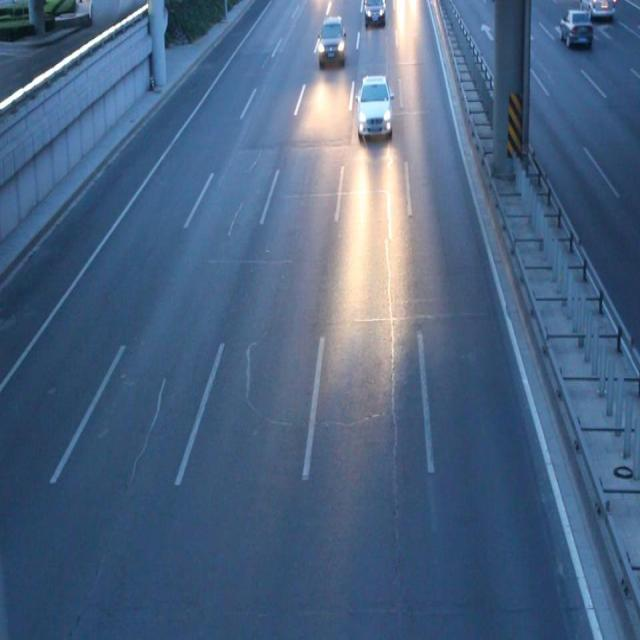car: (355, 76, 391, 139), (316, 19, 345, 66), (364, 1, 386, 27)
